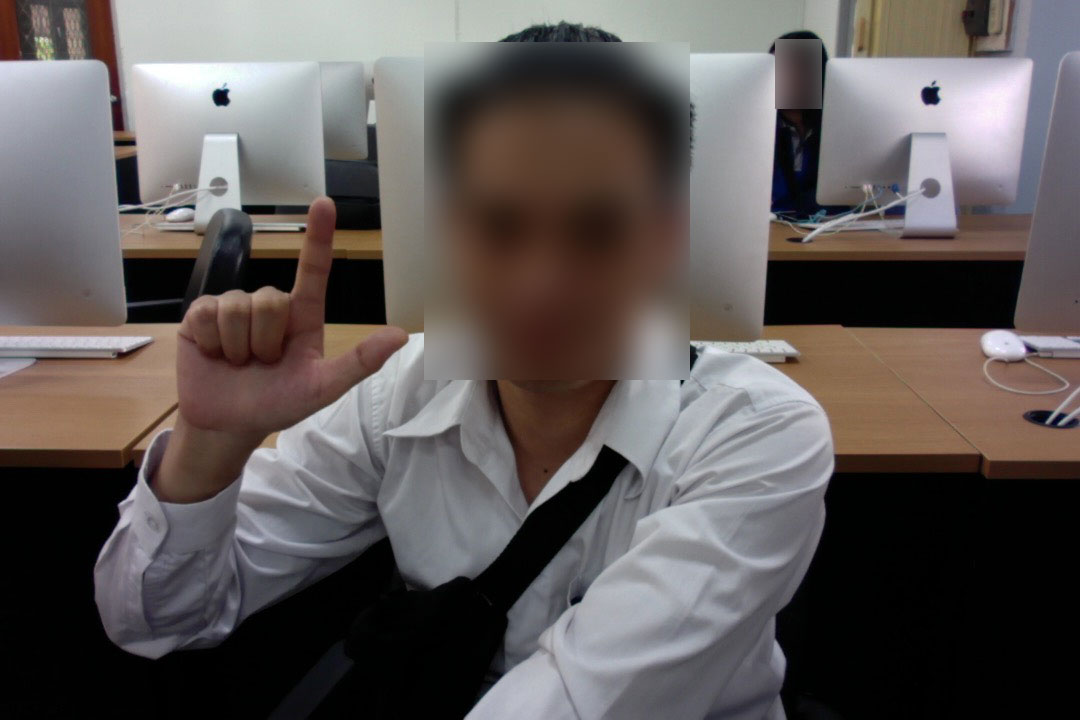lor: (143, 180, 417, 447)
